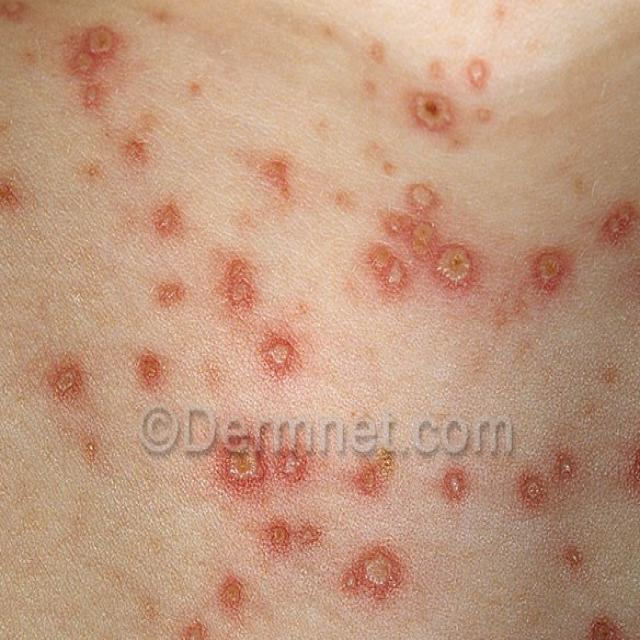Viral Infections: (0, 29, 640, 640)
